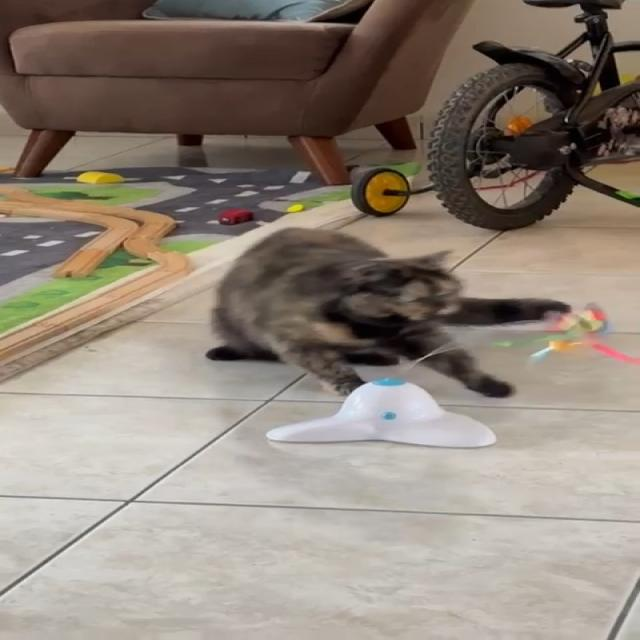authorized: (204, 225, 571, 398)
